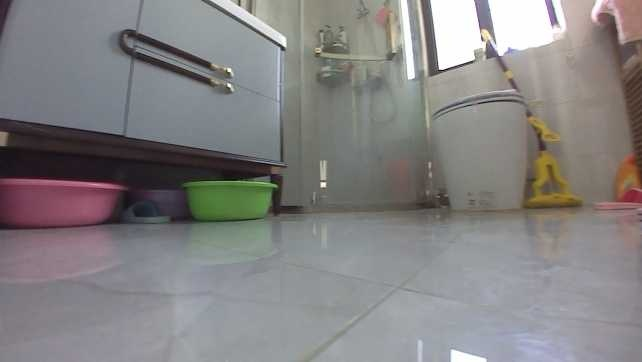slipper: (113, 199, 170, 222), (590, 183, 640, 208)
toilet: (432, 78, 533, 210)
washstand: (0, 0, 285, 170)
